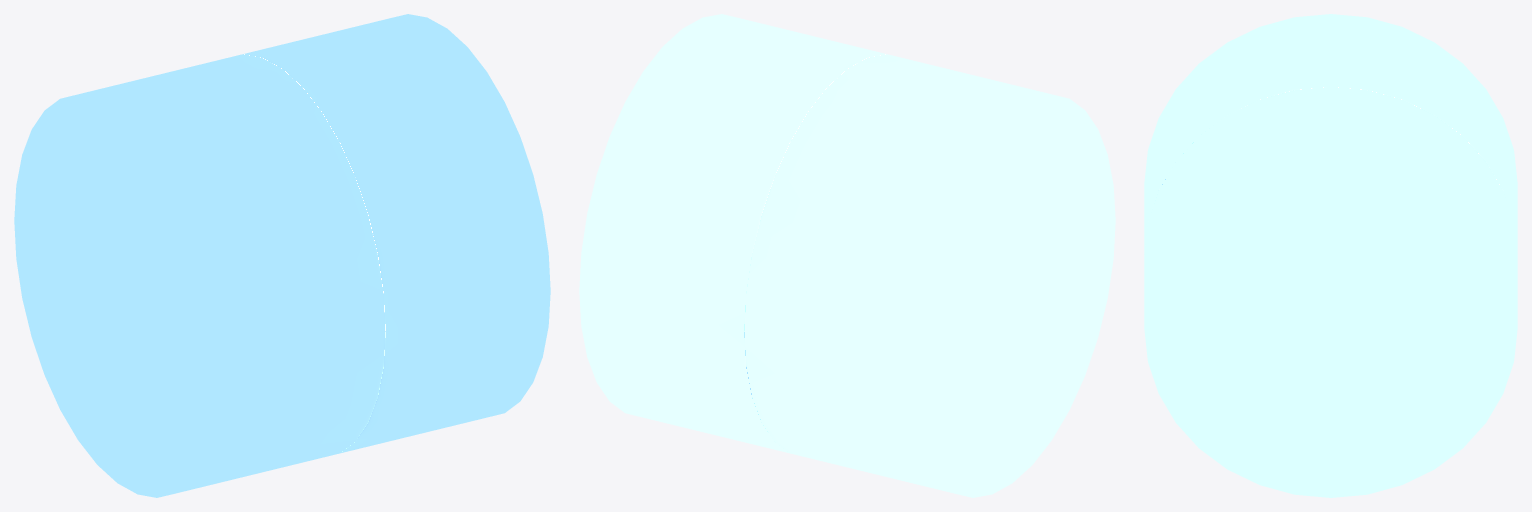
The model's file is SUV_Twin_Scroll_Turbo_R.glb.
3 views of the same model, side by side, from view 1: azimuth 30°, elevation 25°; view 2: azimuth 150°, elevation 25°; view 3: azimuth 270°, elevation 25° (orthographic). The views are drawn at different scales.
Parts seen in each view (by area): view 1: SUV_Twin_Scroll_Turbo_R; view 2: SUV_Twin_Scroll_Turbo_R; view 3: SUV_Twin_Scroll_Turbo_R.
Part boxes in pixels (<box>): SUV_Twin_Scroll_Turbo_R: <box>14,14,550,497</box>; SUV_Twin_Scroll_Turbo_R: <box>579,14,1115,497</box>; SUV_Twin_Scroll_Turbo_R: <box>1144,14,1517,497</box>.
Size of the model in its own units: 0.12 by 0.13 by 0.13.
